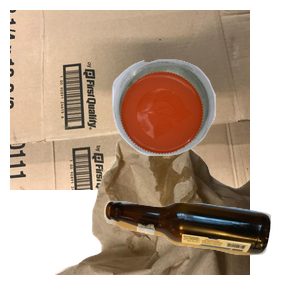cardboard: (10, 10, 250, 190)
glass: (101, 198, 300, 300)
plastic: (110, 57, 300, 205)
trash: (52, 120, 292, 300)
